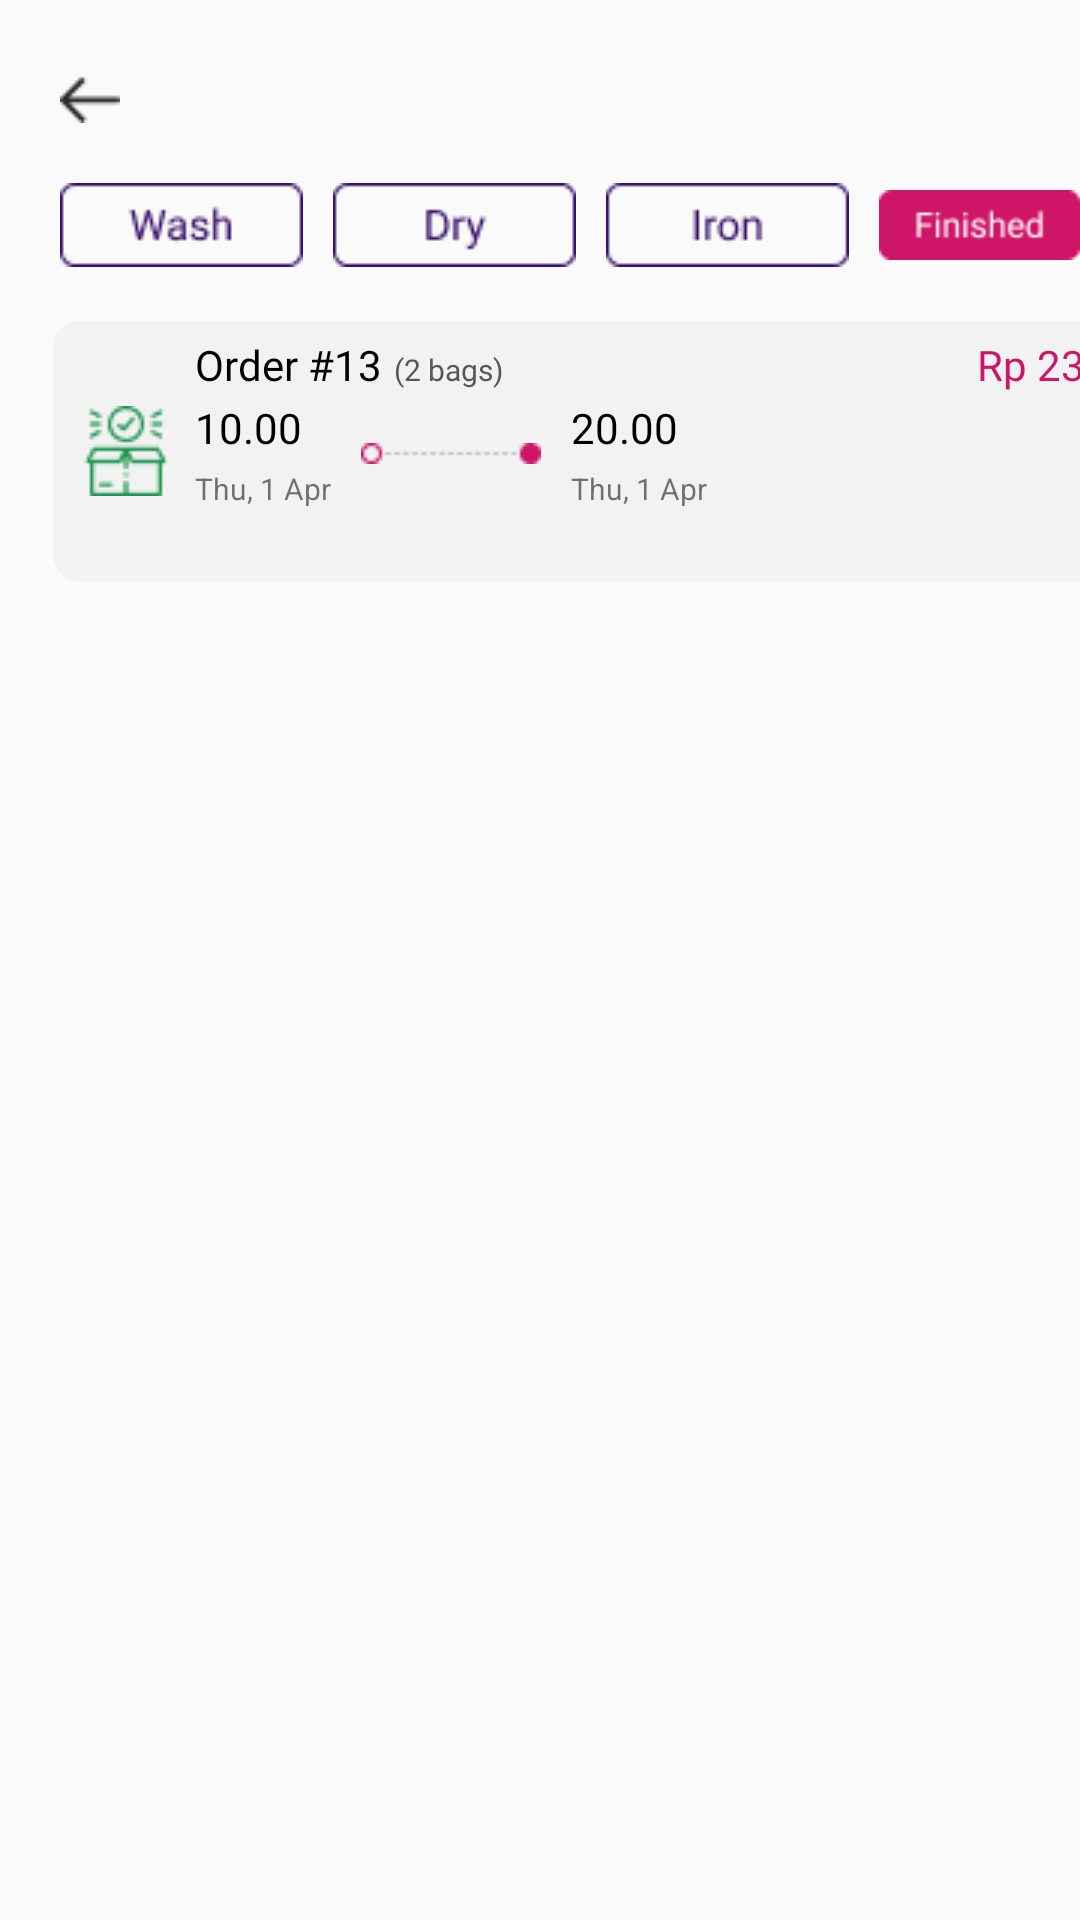

Icon bounding boxes for this 1080x1920 phone screenshot, format (x1, y1, x2, y2):
back: (60, 77, 120, 123)
delivery box: (84, 406, 168, 496)
